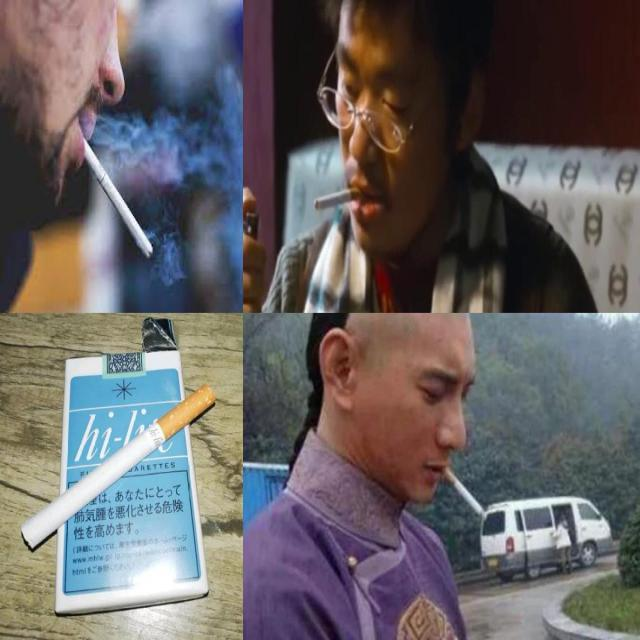smoking: (21, 384, 216, 548), (76, 128, 154, 260), (442, 464, 489, 522), (309, 180, 366, 223)
